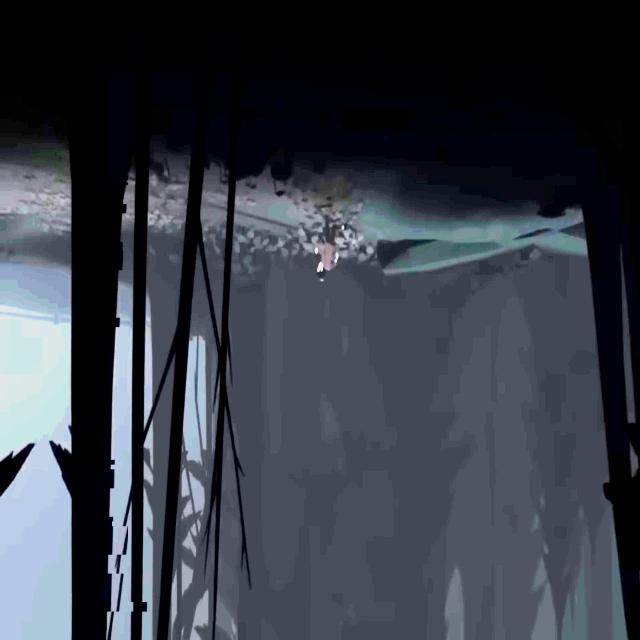boy: (315, 222, 340, 282)
